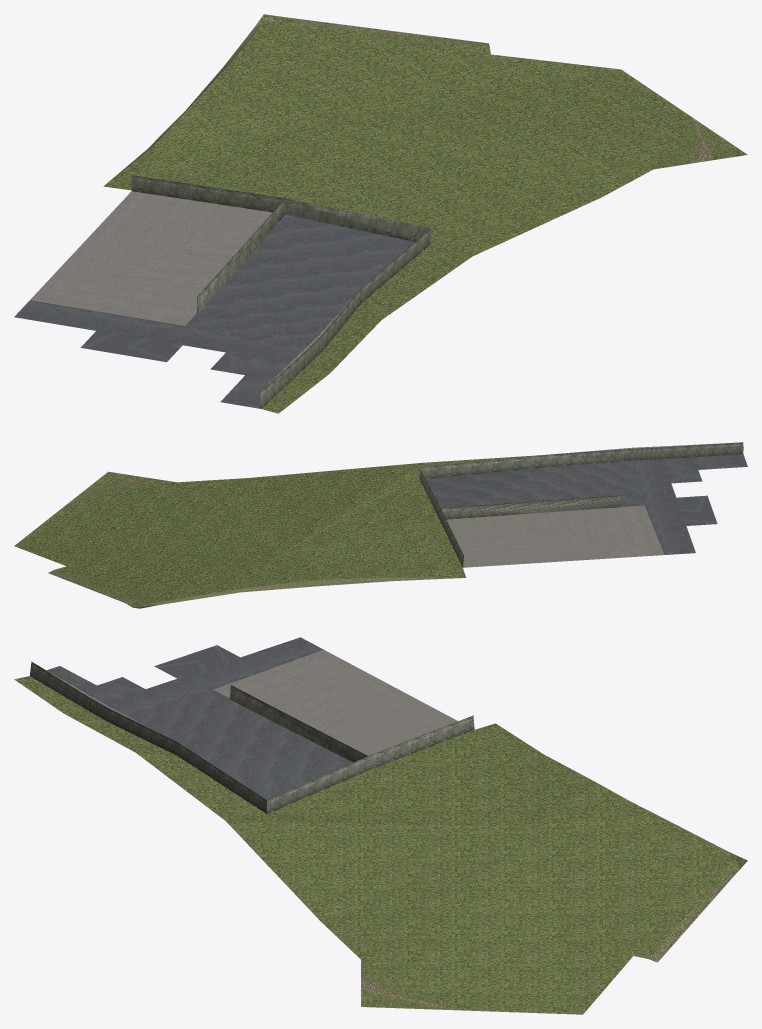
Rendered from lodcs09.obj.
3 renders of one model, top to bottom at view 1: azimuth 30°, elevation 25°; view 2: azimuth 150°, elevation 25°; view 3: azimuth 270°, elevation 25°, orthographic. The views are drawn at different scales.
Parts seen in each view (by area): view 1: LODcs09; view 2: LODcs09; view 3: LODcs09.
Boxes of the visible parts, x1,y1,x2,y2 form: LODcs09: (14,14,747,413); LODcs09: (14,442,747,608); LODcs09: (14,637,747,1014).
Bounding box in the file's own units: 143 × 13.4 × 136.
Materials: 6 (6 with a texture image).
